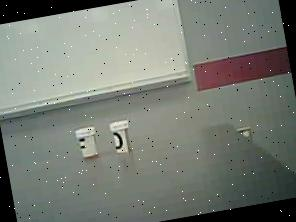Bottle D: (108, 118, 136, 160)
Bottle F: (73, 124, 105, 166)
